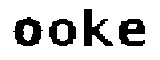e: (118, 17, 148, 48)
k: (80, 5, 115, 52)
o: (13, 15, 42, 49), (49, 19, 76, 48)
